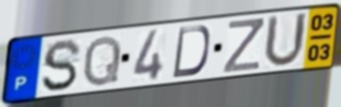4: (131, 28, 166, 83)
D: (170, 24, 212, 80)
Q: (80, 34, 124, 89)
S: (40, 37, 84, 93)
U: (261, 11, 310, 70)
Z: (221, 16, 266, 75)
